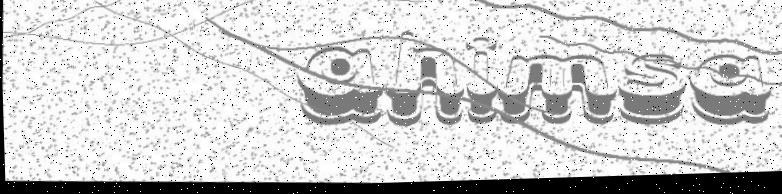a: (290, 42, 388, 128), (686, 52, 774, 133)
h: (383, 28, 467, 130)
i: (461, 33, 504, 130)
m: (499, 48, 620, 131)
s: (615, 47, 692, 130)
